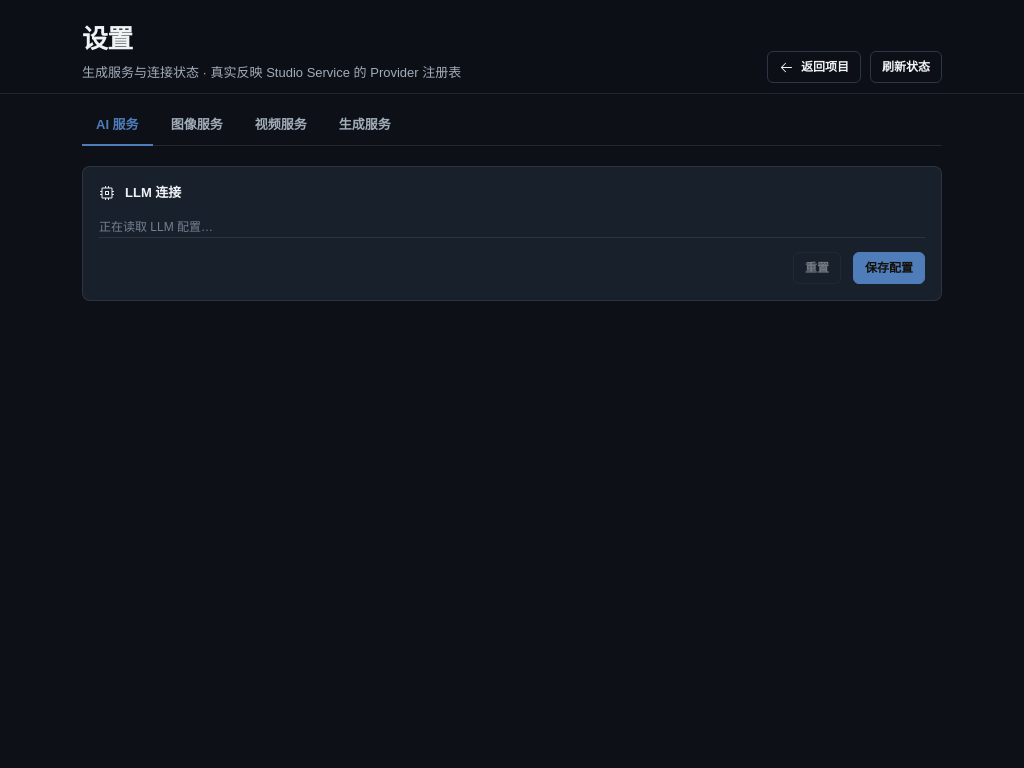
Test: 工作流 live 健康检查面板（SettingsPage · ComfyUI 卡） › ③ invalid 时显示缺节点 / 缺模型与候选数量提示
Click the tab "生成服务" at [365, 127], box [325, 108, 405, 146]
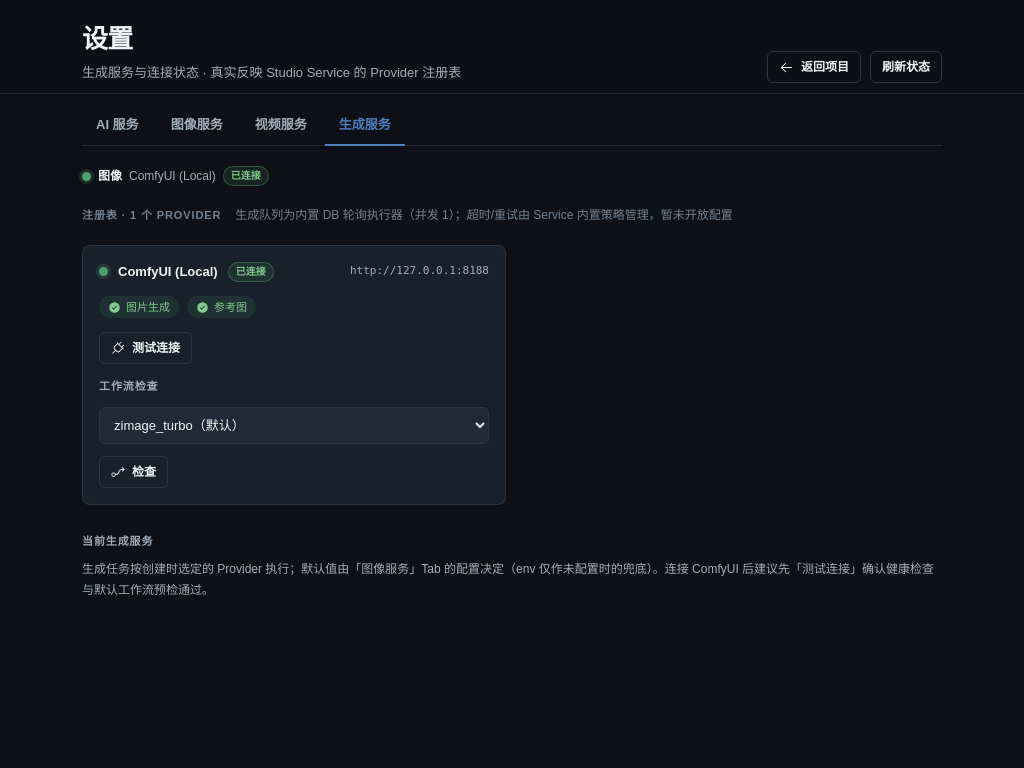
Click the button "检查" at [134, 472], box [99, 456, 168, 488]
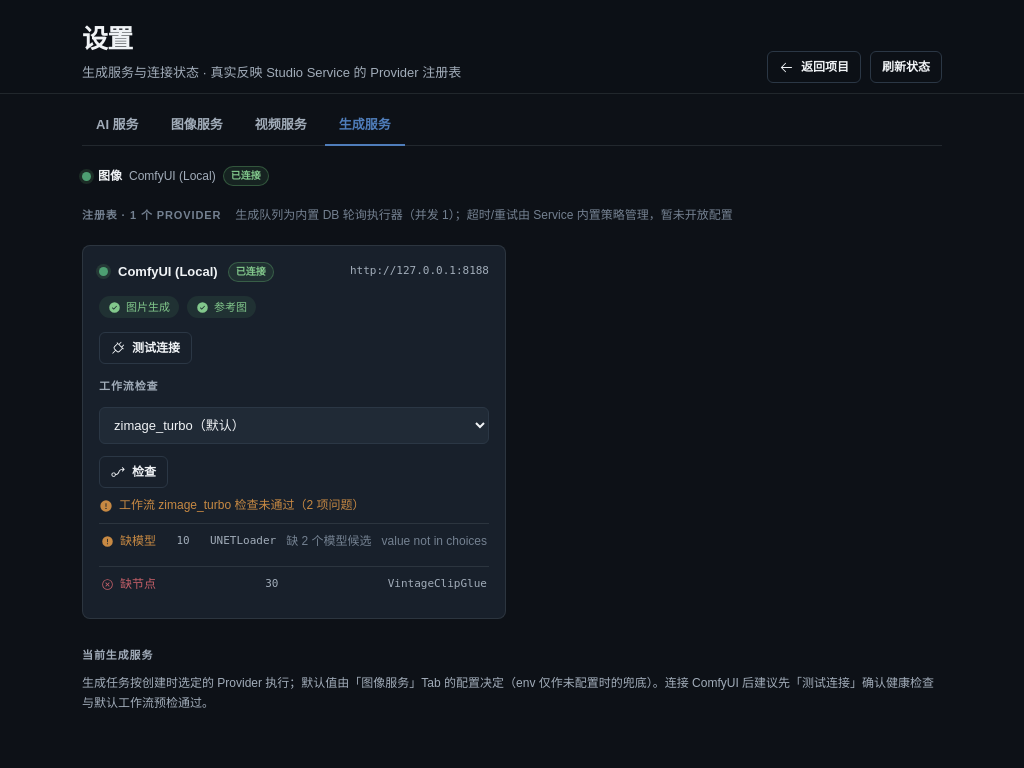
Now the text "工作流 zimage_turbo 检查未通过（2 项问题）" is shown, box [99, 496, 364, 515]
Now the text "缺模型" is shown, box [101, 532, 156, 550]
Now the text "缺节点" is shown, box [101, 575, 156, 594]
